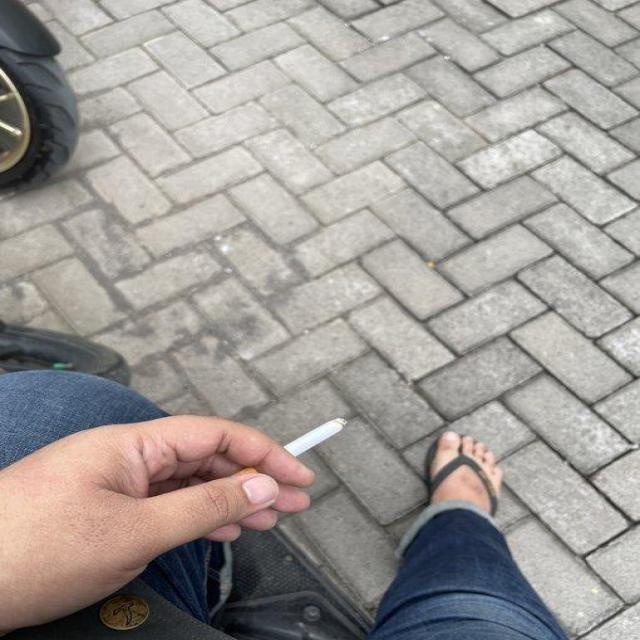rokok: (284, 409, 356, 459)
